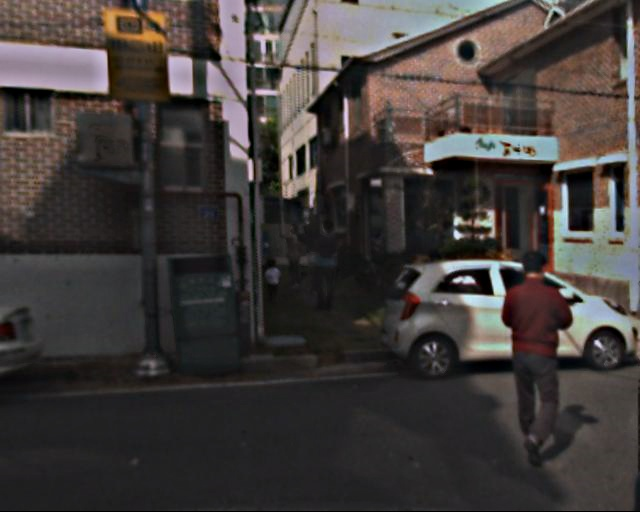person: (482, 250, 583, 466), (307, 220, 348, 312), (278, 219, 308, 293), (263, 258, 283, 301)
